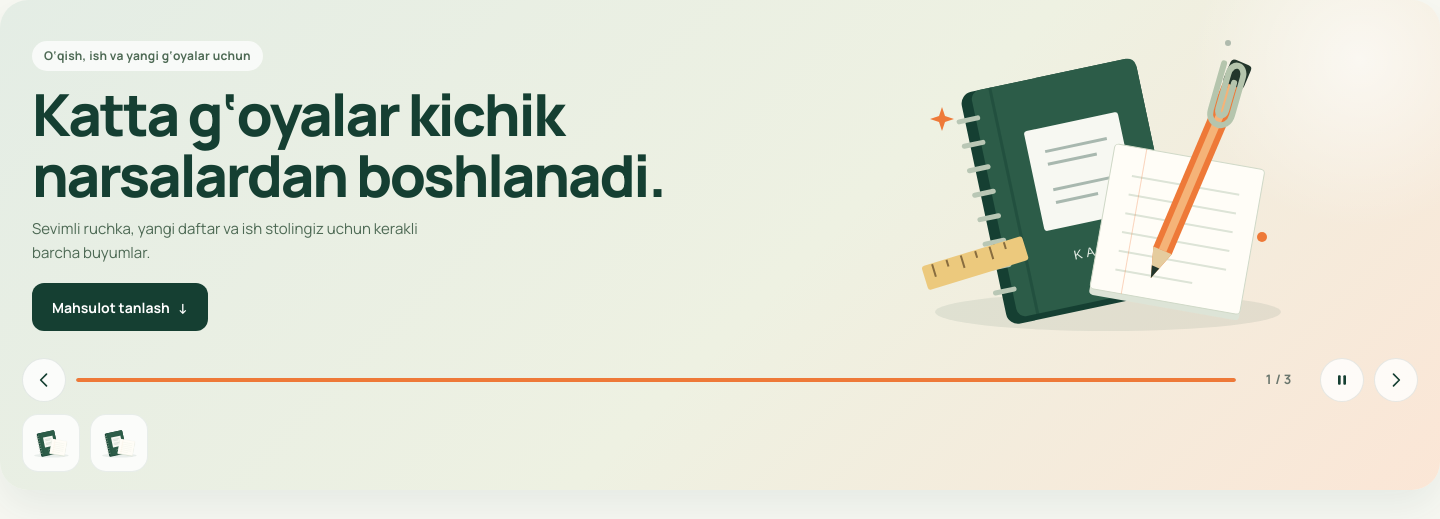
it: HeroCarousel › opens on the brand slide and steps through every product
Expected: the text "Katta g‘oyalar kichik narsalardan boshlanadi." is shown, [32,82,776,205]
Expected: the text "1 / 3" is shown, [1264,370,1292,388]
Click the button named "Keyingi slayd". click: {"x": 1396, "y": 380}
box: [1374,358,1418,402]
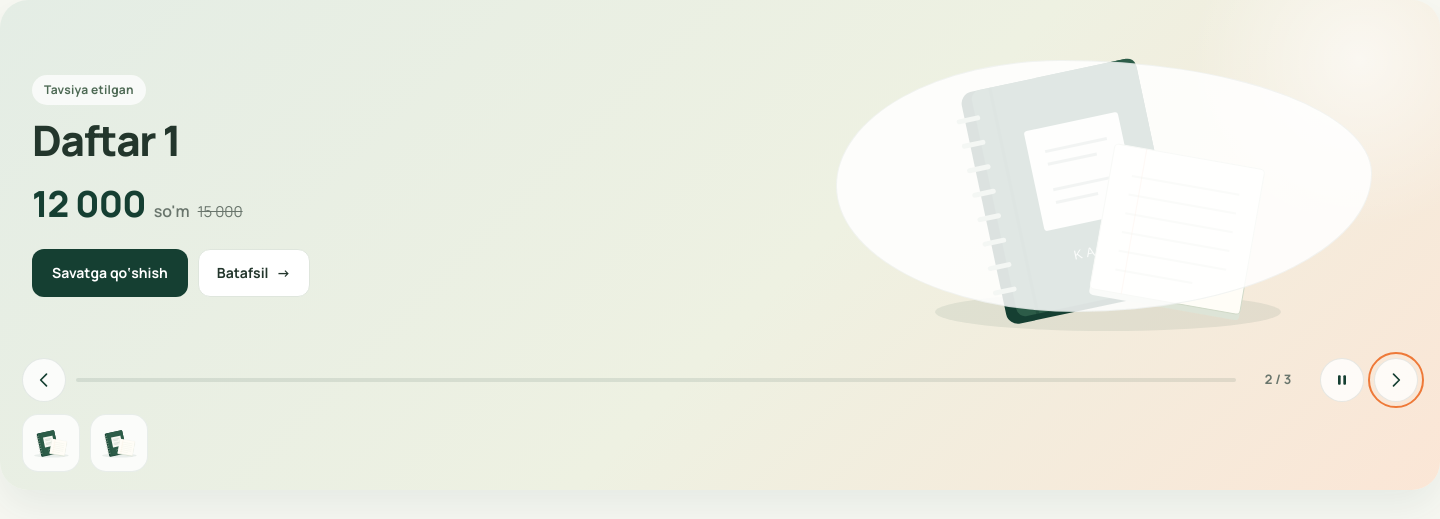
Now the text "Tavsiya etilgan" is shown, box [32,76,146,106]
Now the text "15 000" is shown, box [198,200,243,223]
Now the button "Savatga qo‘shish" is shown, box [32,248,188,296]
Click the button named "Keyingi slayd". click: {"x": 1396, "y": 380}
box: [1374,358,1418,402]
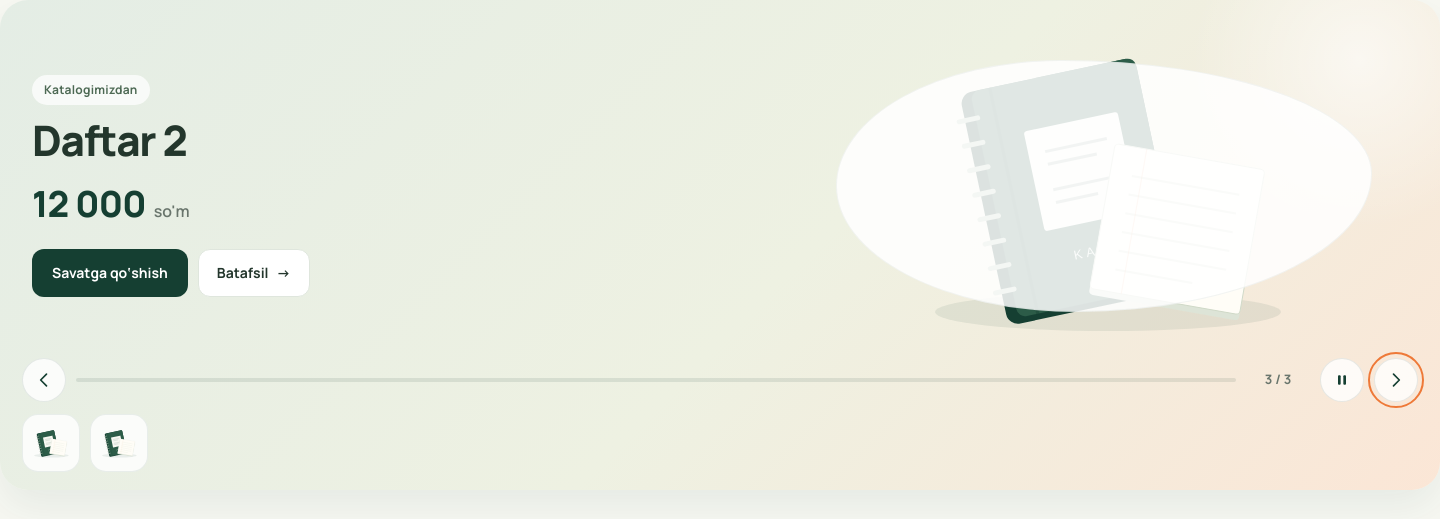
Now the link "Daftar 2" is shown, box [32,118,187,164]
Click the button named "Keyingi slayd". click: {"x": 1396, "y": 380}
box: [1374,358,1418,402]
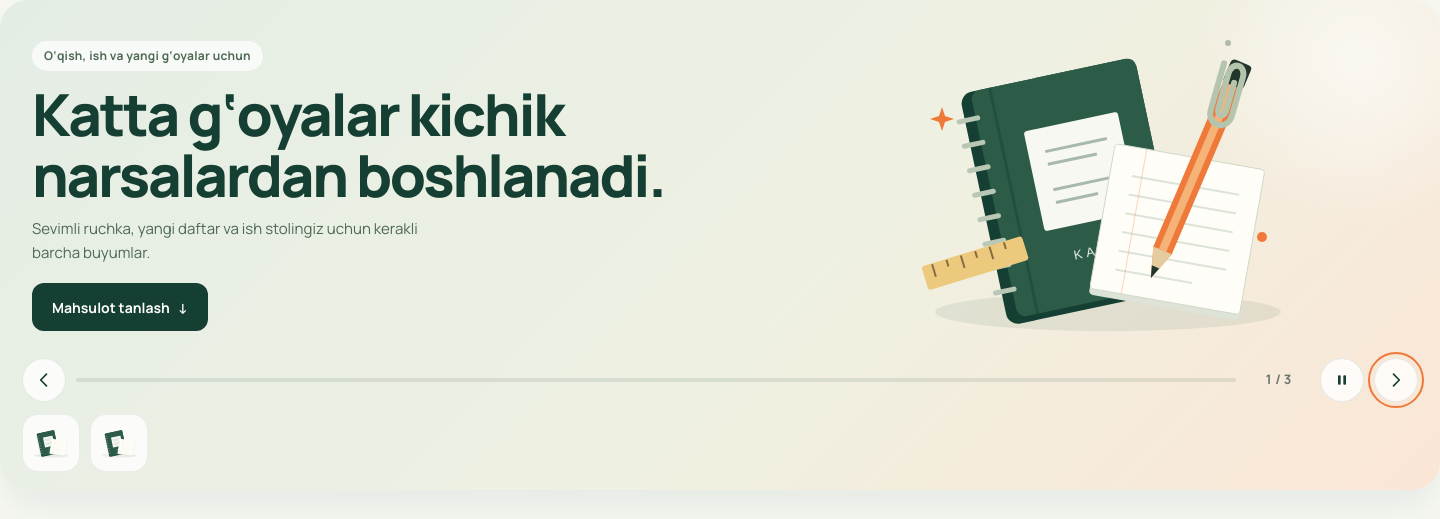
Now the text "1 / 3" is shown, box [1264,370,1292,388]
Click the button named "Oldingi slayd". click: {"x": 44, "y": 380}
box: [22,358,66,402]
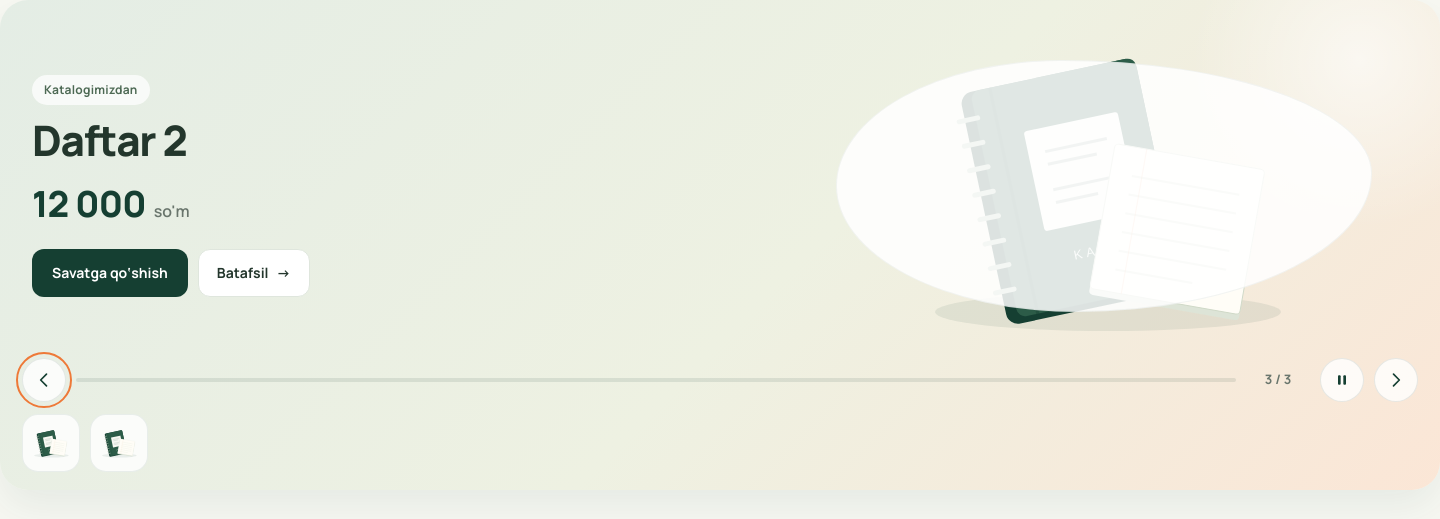
Now the link "Daftar 2" is shown, box [32,118,187,164]
